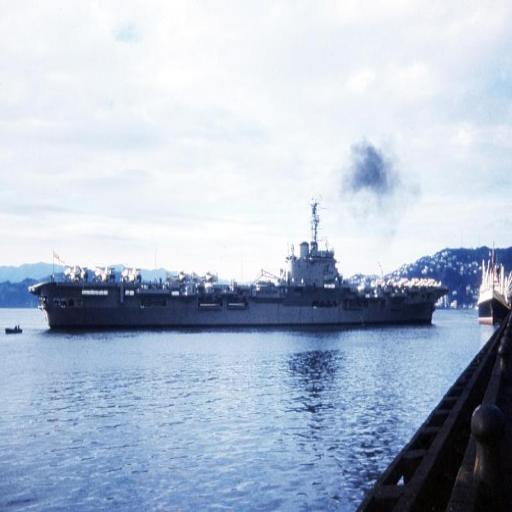Portanaves: (30, 197, 451, 342)
